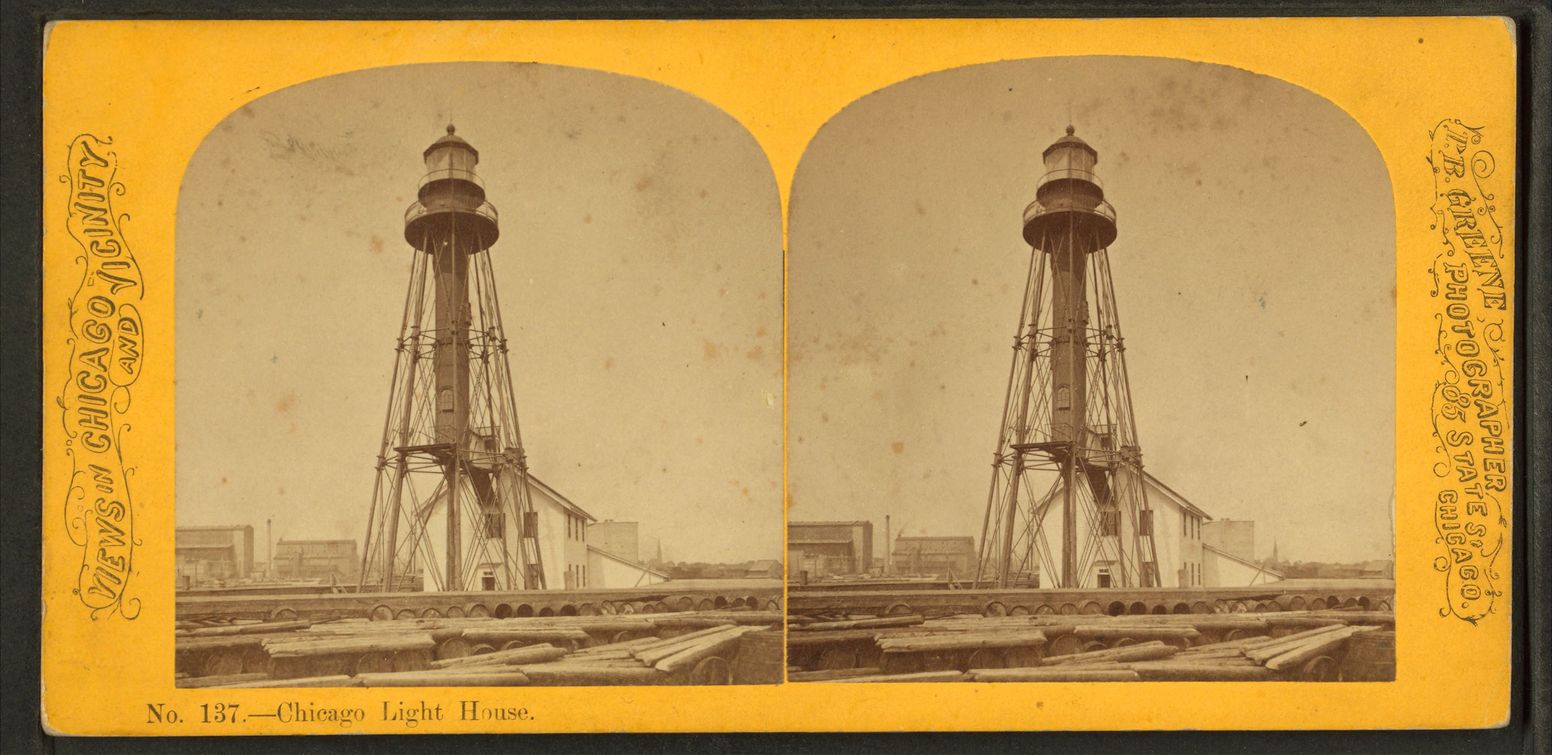half_image: (786, 56, 1397, 684), (175, 61, 784, 689)
